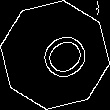O_SW: (21, 23, 89, 87)
